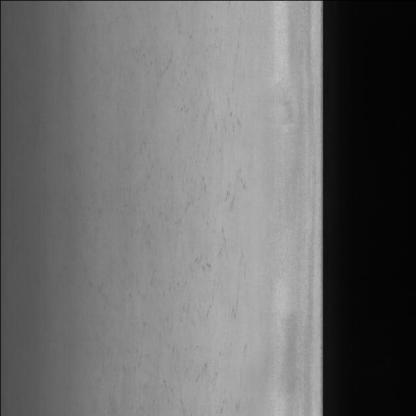silk_spot: (147, 88, 249, 394)
